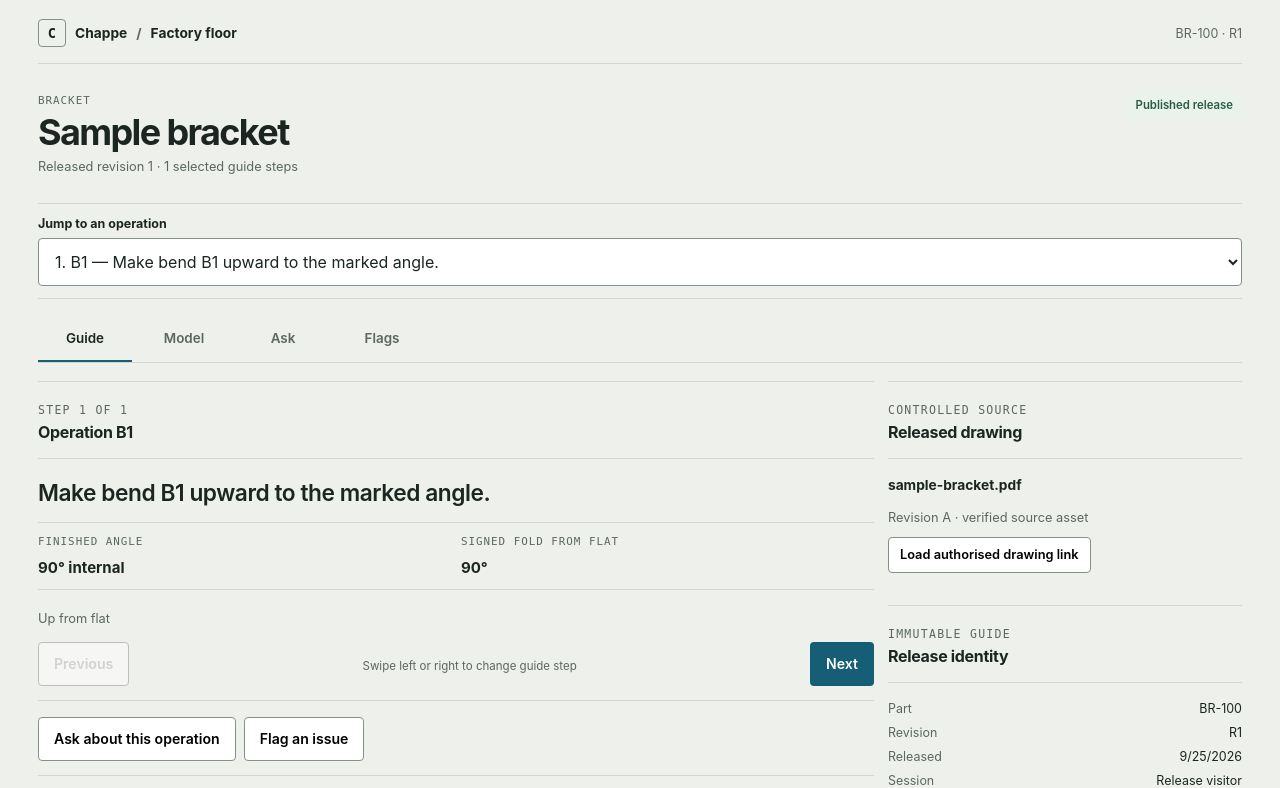
release-bound factory floor › creates a release and bend scoped flag through the real typed client boundary
Expected: the heading "Sample bracket" is shown, left=38, top=112, right=298, bottom=152
Click the tab "Flags": (382, 339) left=335, top=316, right=429, bottom=362
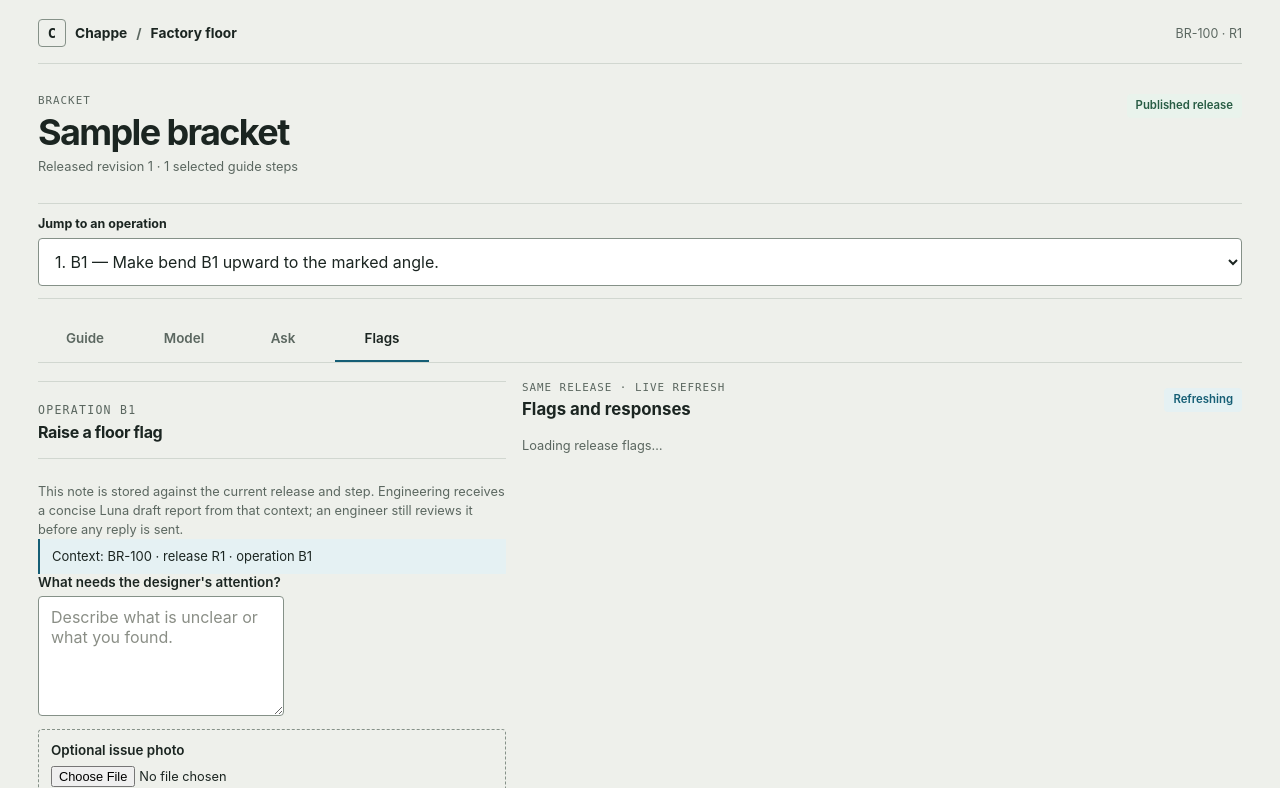
In the text box labelled "What needs the designer's attention?": (161, 656) left=38, top=596, right=284, bottom=716, type "The bend direction on the sheet is unclear."
(page scrolled)
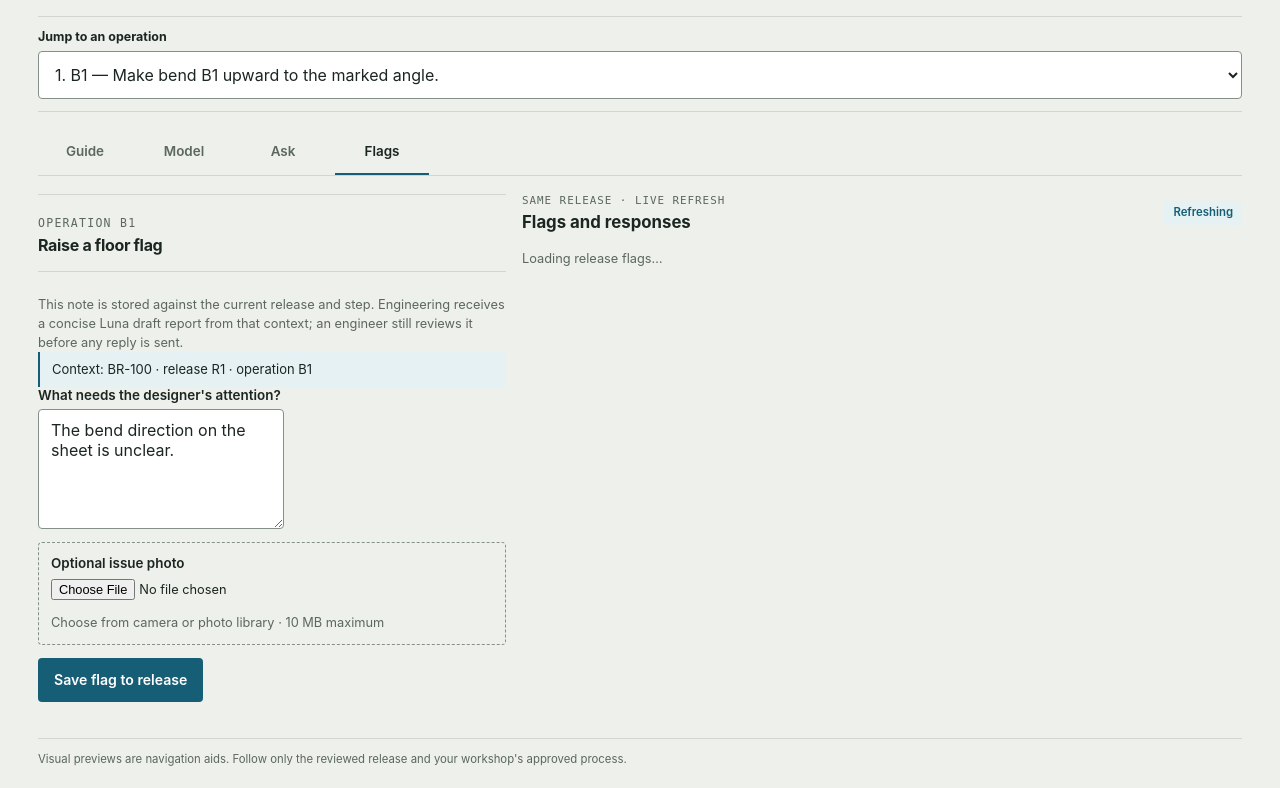
Click the button "Save flag to release": (121, 680) left=38, top=658, right=203, bottom=702
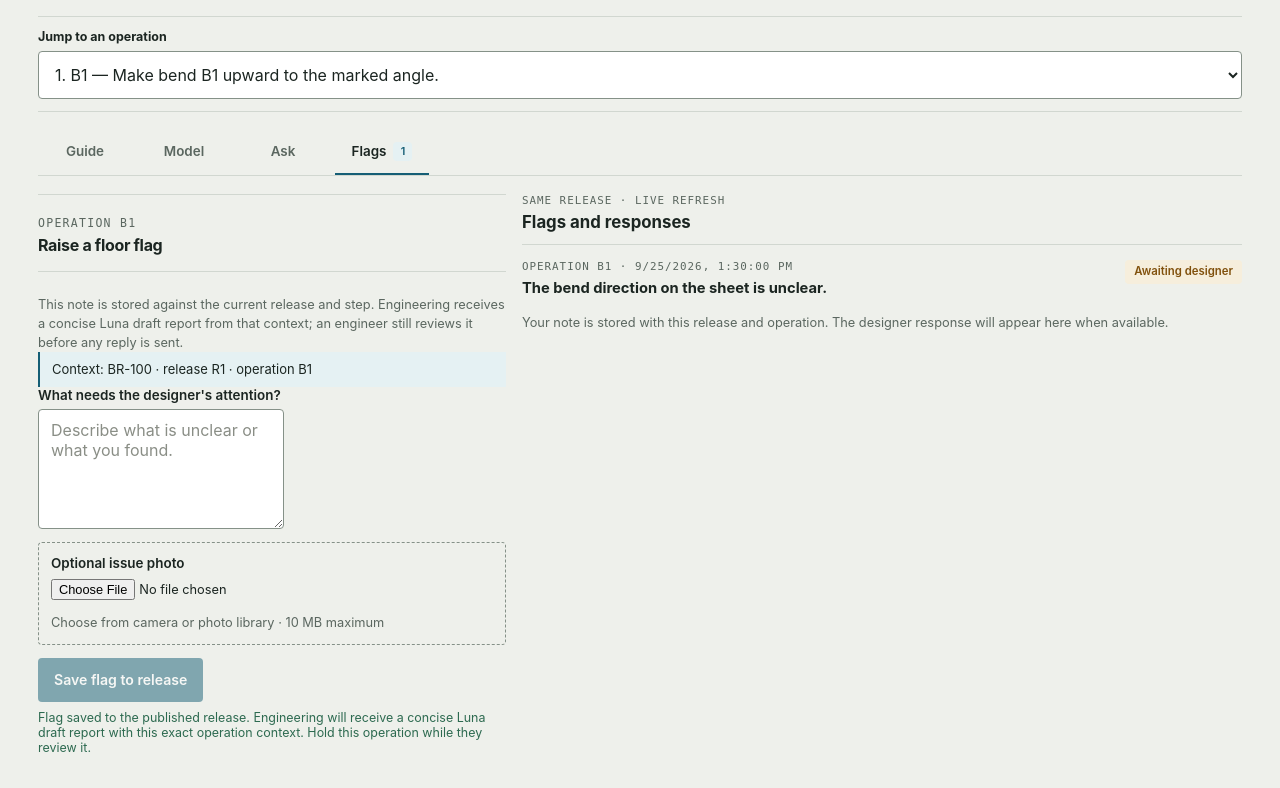
Expected: the text "Flag saved to the published release. Engineering will receive a concise Luna draft report" is shown, left=38, top=710, right=486, bottom=755
Expected: the heading "The bend direction on the sheet is unclear." is shown, left=522, top=278, right=827, bottom=298
